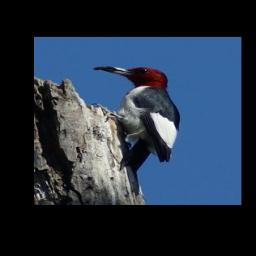Woodpecker: (94, 65, 181, 196)
